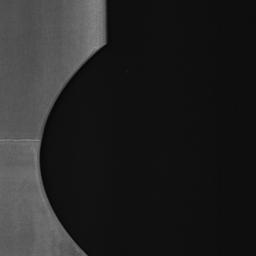Crescent gap: (40, 45, 105, 256)
